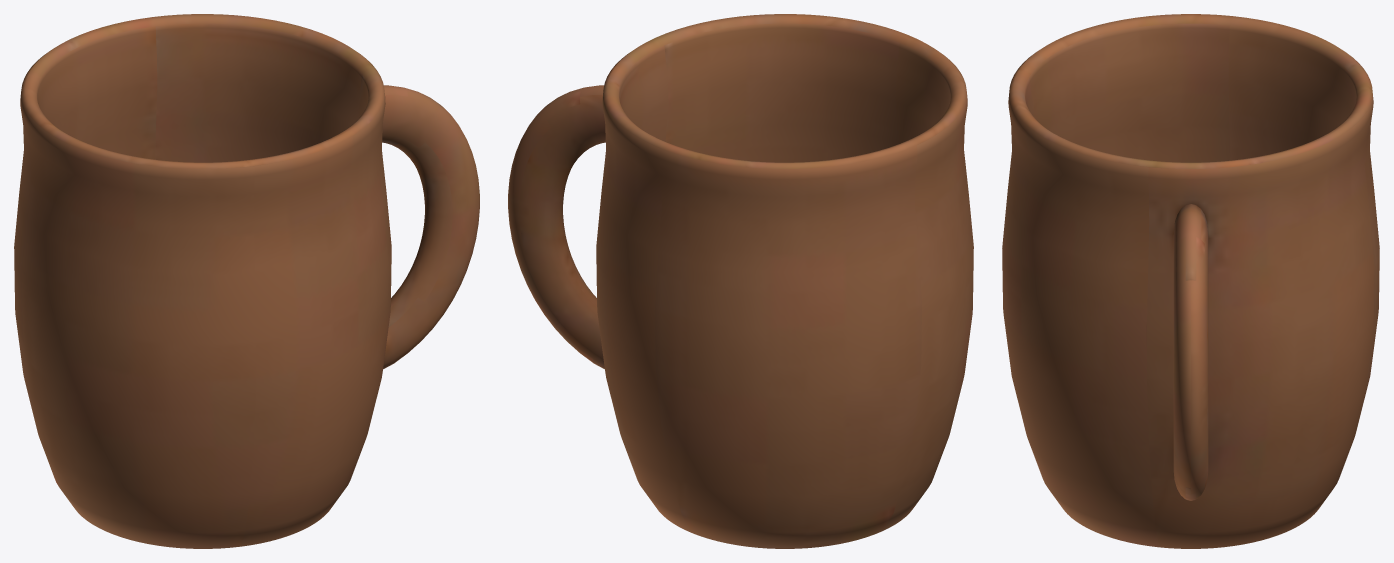
Rendered from clay_cup.glb.
The picture shows the model from 3 angles, left to right: view 1: azimuth 30°, elevation 25°; view 2: azimuth 150°, elevation 25°; view 3: azimuth 270°, elevation 25°; orthographic projection.
Visible parts, largest first — view 1: clay_cup; view 2: clay_cup; view 3: clay_cup.
Part boxes in pixels (x1=…): clay_cup: x1=14, y1=14, x2=479, y2=548; clay_cup: x1=508, y1=14, x2=973, y2=548; clay_cup: x1=1002, y1=14, x2=1379, y2=548.
Size of the model in its own units: 0.1095 by 0.0993 by 0.0816.
Materials: 1 (1 with a texture image).
